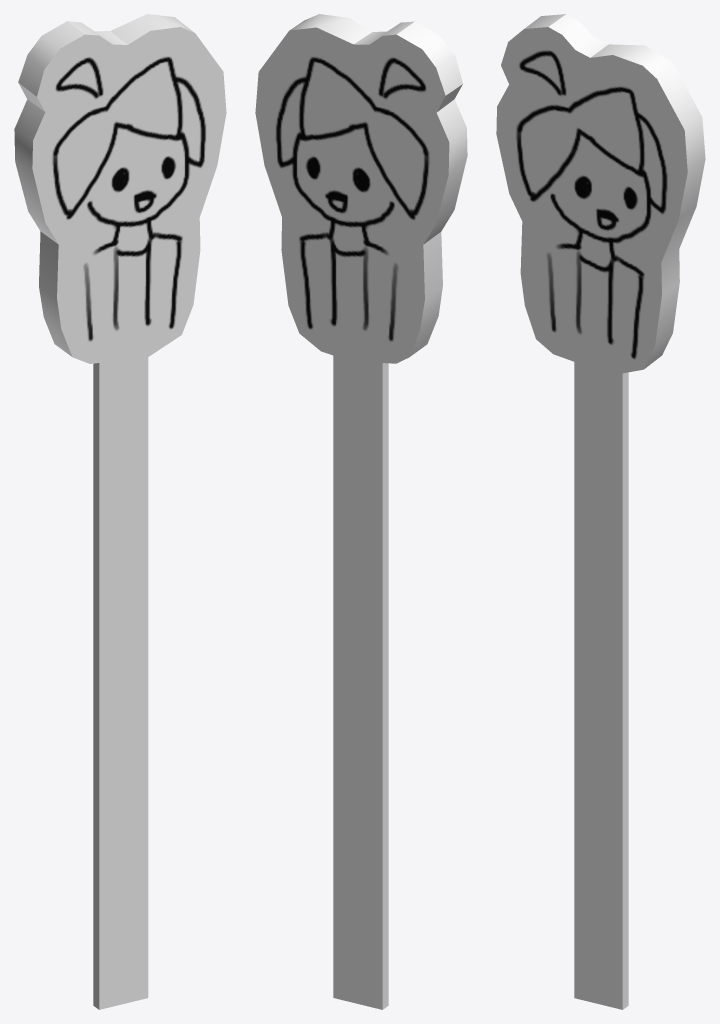
File: Cashier_BoyHappy.fbx
3 views of the same model, side by side, from view 1: azimuth 30°, elevation 25°; view 2: azimuth 150°, elevation 25°; view 3: azimuth 330°, elevation 25° (orthographic).
Visible parts, largest first — view 1: Cashier.happy; view 2: Cashier.happy; view 3: Cashier.happy.
Boxes of the visible parts, x1=… form: Cashier.happy: x1=14, y1=14, x2=226, y2=1009; Cashier.happy: x1=255, y1=14, x2=467, y2=1009; Cashier.happy: x1=496, y1=14, x2=705, y2=1009.
Bounding box in the file's own units: 69.68 × 338 × 11.23.
